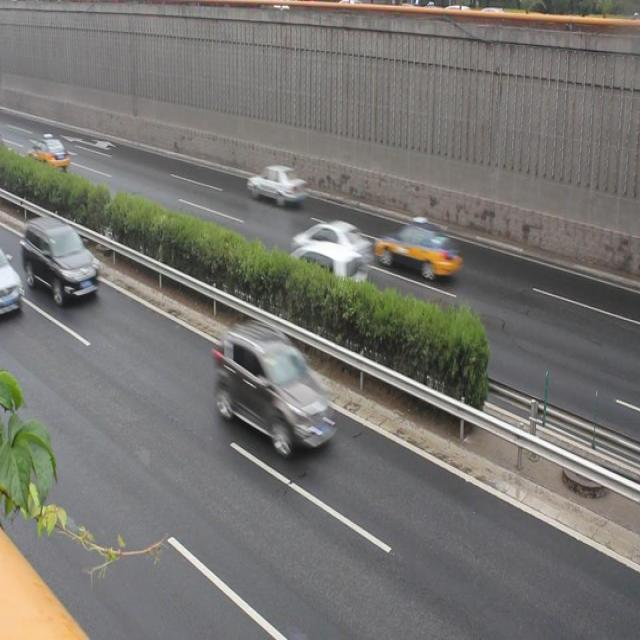car: (214, 320, 333, 454), (22, 216, 99, 300), (279, 240, 369, 306), (374, 221, 460, 284), (292, 218, 373, 273), (247, 162, 307, 208), (1, 250, 24, 321)
